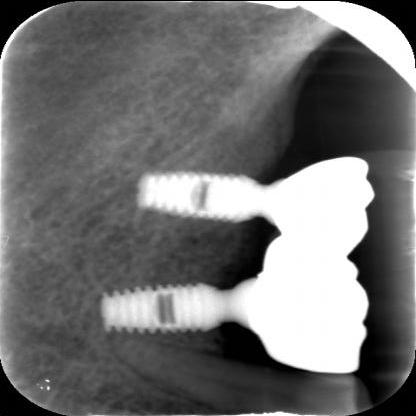Bicon: (134, 169, 274, 221), (98, 282, 231, 334)
